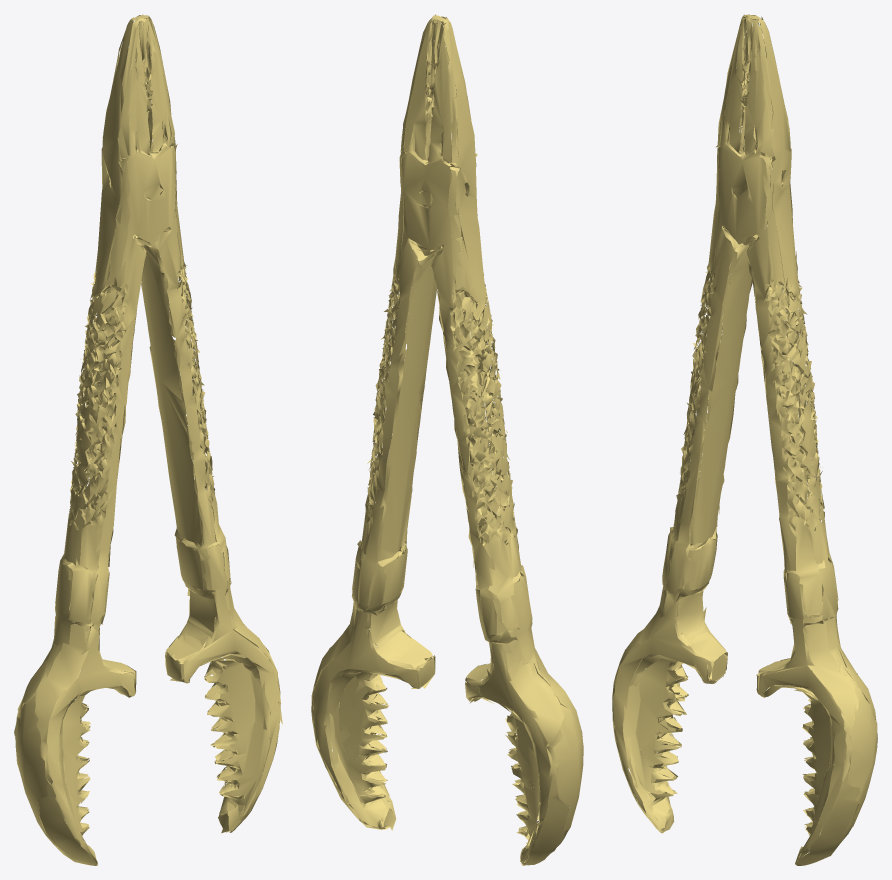
The model's file is equip_cardio_cooley_forceps.glb.
The picture shows the model from 3 angles, left to right: view 1: azimuth 30°, elevation 25°; view 2: azimuth 150°, elevation 25°; view 3: azimuth 330°, elevation 25°; orthographic projection. The views are drawn at different scales.
Parts seen in each view (by area): view 1: world; view 2: world; view 3: world.
Boxes of the visible parts, x1,y1,x2,y2 form: world: (14, 14, 282, 865); world: (311, 14, 583, 865); world: (612, 14, 877, 865).
Bounding box in the file's own units: 0.0585 × 0.1806 × 0.0176.
